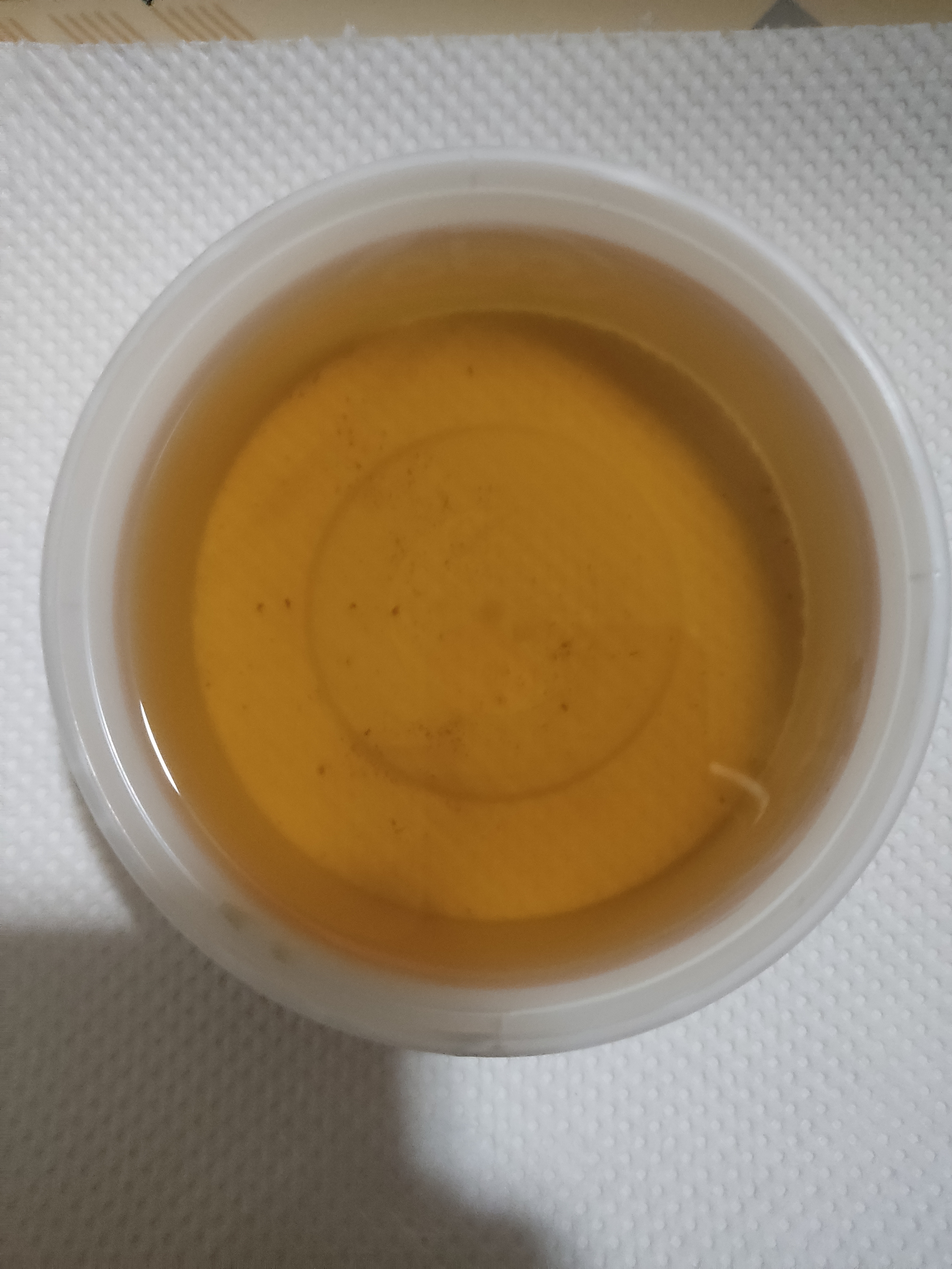reusable: (109, 210, 889, 1003)
